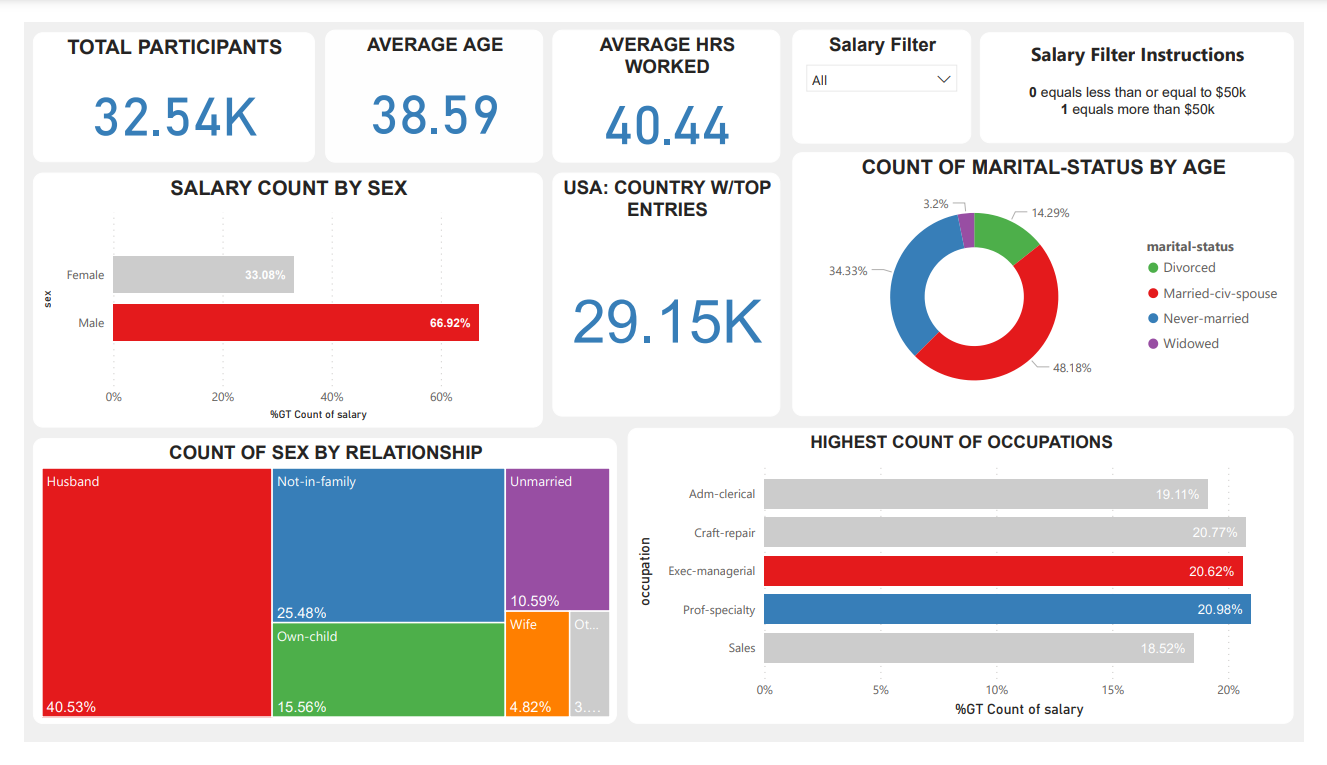

The page's visual inventory and layout, read from the dashboard file:
{"tool":"powerbi","page":{"name":"Page 1","canvas":[1280,720],"ordinal":0},"visuals":[{"type":"clusteredBarChart","title":"SALARY COUNT BY SEX","fields":{"Category":["Sheet1.sex"],"Y":["CountNonNull(Sheet1.salary)"]},"box":[8.9,150.6,510.5,255.2],"z":0},{"type":"donutChart","title":"COUNT OF MARITAL-STATUS BY AGE","fields":{"Category":["Sheet1.marital-status"],"Y":["Sum(Sheet1.age)"]},"box":[768.2,130.2,501.5,264.2],"z":1000},{"type":"slicer","title":"Salary Filter","fields":{"Values":["Sheet1.salary","Sheet1.occupation"]},"box":[768.2,7.7,178.7,113.6],"z":2000},{"type":"textbox","box":[955.9,10.2,313.9,111],"z":3000},{"type":"treemap","title":"COUNT OF SEX BY RELATIONSHIP","fields":{"Group":["Sheet1.relationship"],"Values":["CountNonNull(Sheet1.sex)"]},"box":[8.9,416,584.5,285.9],"z":3001},{"type":"barChart","title":"HIGHEST COUNT OF OCCUPATIONS","fields":{"Y":["Sum(Sheet1.salary)"],"Category":["Sheet1.occupation"]},"box":[603.6,405.8,666.2,296.1],"z":3002},{"type":"card","title":"AVERAGE AGE","fields":{"Values":["Avg(Sheet1.age)"]},"box":[301.2,7.7,218.2,132.7],"z":3004},{"type":"card","title":"AVERAGE HRS WORKED","fields":{"Values":["Avg(Sheet1.hours-per-week)"]},"box":[528.3,7.7,228.4,132.7],"z":3005},{"type":"card","title":"TOTAL PARTICIPANTS","fields":{"Values":["CountNonNull(Sheet1.sex)"]},"box":[8.9,10.2,282,130.2],"z":3006},{"type":"card","title":"USA: COUNTRY W/TOP ENTRIES","fields":{"Values":["CountNonNull(Sheet1.native-country)"]},"box":[528.3,150.6,228.4,243.7],"z":3007}]}

Visuals, with their boxes in screenshot pixels (x1, y1, x2, y2), scaled from the page's 1280x720 canvas onto the 1327x765 screenshot:
"SALARY COUNT BY SEX" clusteredBarChart: {"left": 9, "top": 160, "right": 538, "bottom": 431}
"COUNT OF MARITAL-STATUS BY AGE" donutChart: {"left": 796, "top": 138, "right": 1316, "bottom": 419}
"Salary Filter" slicer: {"left": 796, "top": 8, "right": 982, "bottom": 129}
textbox: {"left": 991, "top": 11, "right": 1316, "bottom": 129}
"COUNT OF SEX BY RELATIONSHIP" treemap: {"left": 9, "top": 442, "right": 615, "bottom": 746}
"HIGHEST COUNT OF OCCUPATIONS" barChart: {"left": 626, "top": 431, "right": 1316, "bottom": 746}
"AVERAGE AGE" card: {"left": 312, "top": 8, "right": 538, "bottom": 149}
"AVERAGE HRS WORKED" card: {"left": 548, "top": 8, "right": 784, "bottom": 149}
"TOTAL PARTICIPANTS" card: {"left": 9, "top": 11, "right": 302, "bottom": 149}
"USA: COUNTRY W/TOP ENTRIES" card: {"left": 548, "top": 160, "right": 784, "bottom": 419}
